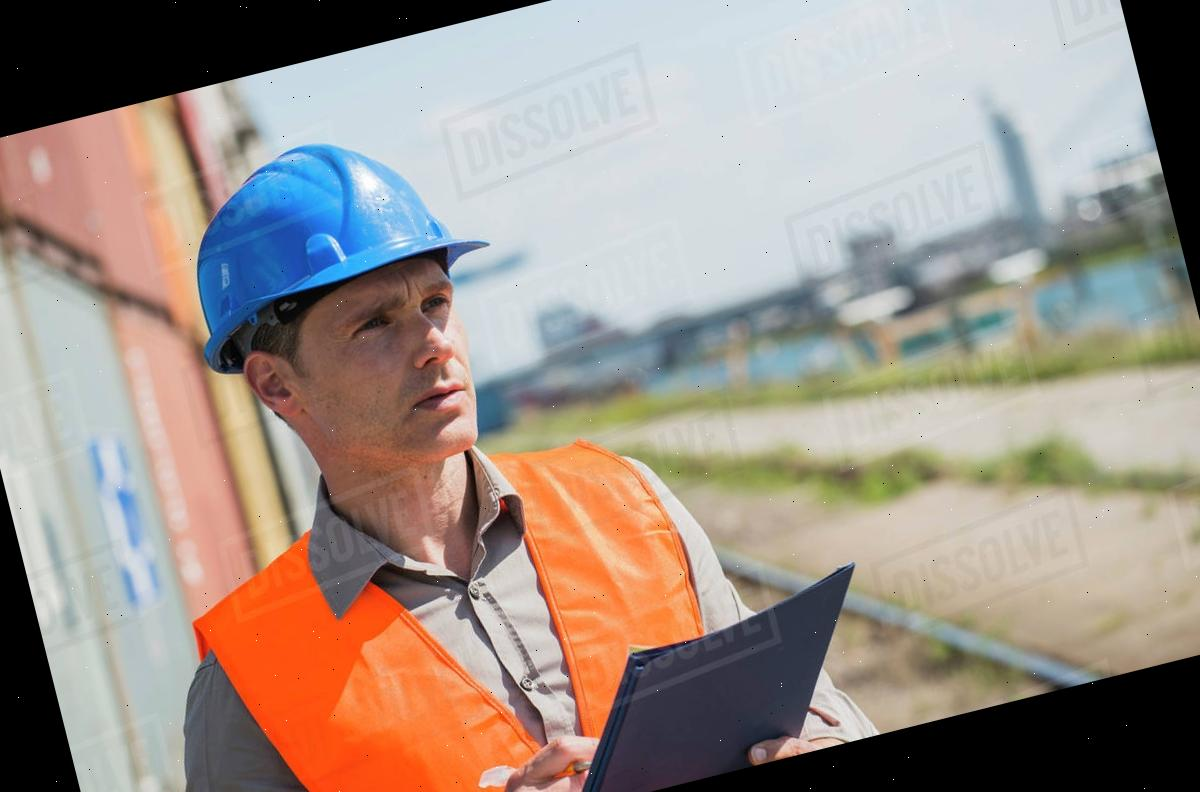helmet: (153, 102, 507, 381)
wear: (175, 428, 750, 792)
